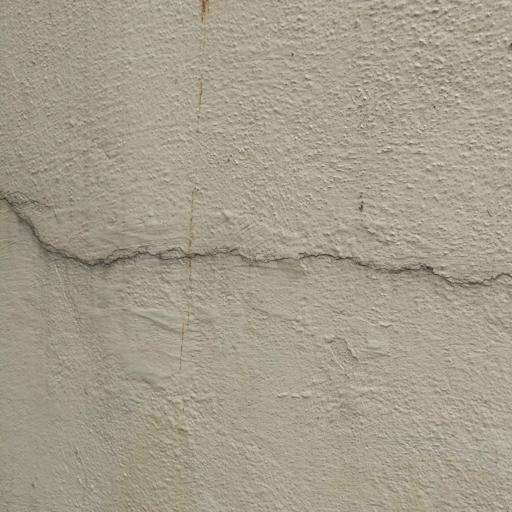minor_crack: (0, 178, 512, 307)
